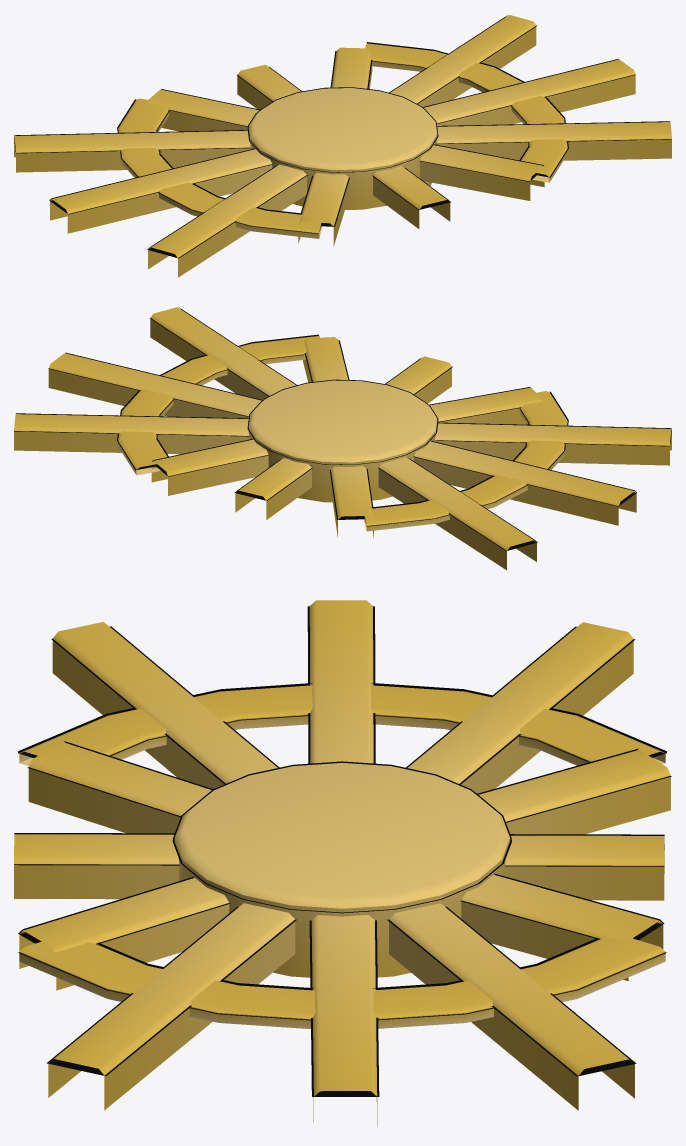
Rendered from Pattern_Solar.glb.
3 renders of one model, top to bottom at view 1: azimuth 30°, elevation 25°; view 2: azimuth 150°, elevation 25°; view 3: azimuth 270°, elevation 25°, orthographic. The views are drawn at different scales.
Parts seen in each view (by area): view 1: Pattern_Solar; view 2: Pattern_Solar; view 3: Pattern_Solar.
Boxes of the visible parts, x1,y1,x2,y2 form: Pattern_Solar: (14,15,671,277); Pattern_Solar: (14,307,671,570); Pattern_Solar: (14,600,671,1126).
Size of the model in its own units: 9.63 by 0.734 by 5.46.
Materials: 3 (2 with a texture image).
